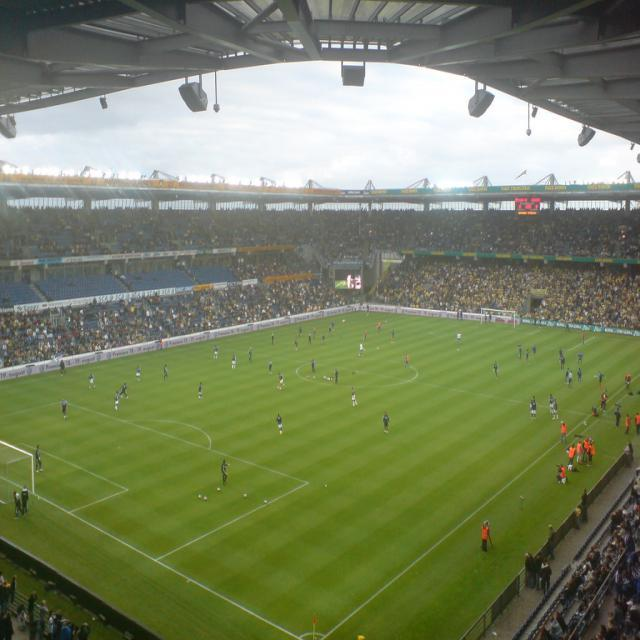football: (187, 489, 216, 511)
